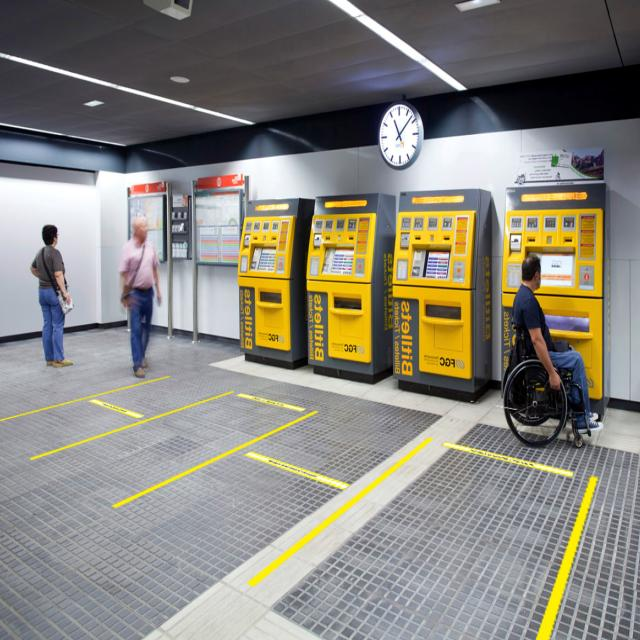maquina-tickets: (388, 188, 496, 396), (303, 186, 393, 381), (229, 176, 313, 368)
